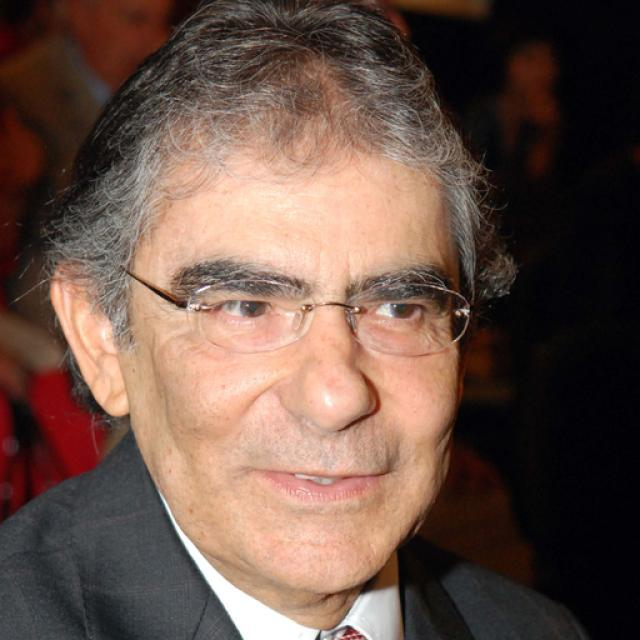happy: (120, 125, 461, 593)
